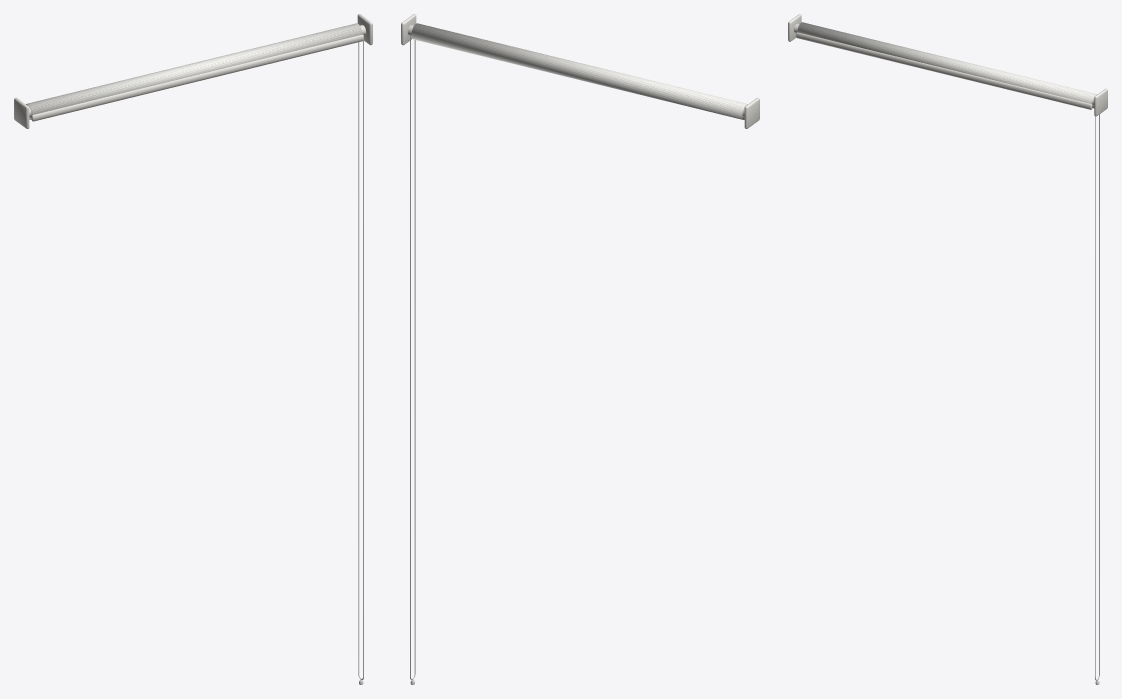
The model's file is estor_enrollable_220_c0.glb.
3 views of the same model, side by side, from view 1: azimuth 30°, elevation 25°; view 2: azimuth 150°, elevation 25°; view 3: azimuth 330°, elevation 25° (orthographic). The views are drawn at different scales.
Visible parts, largest first — view 1: estor_enrollable_220_c0; view 2: estor_enrollable_220_c0; view 3: estor_enrollable_220_c0.
Boxes of the visible parts, bbox=[...] form: estor_enrollable_220_c0: bbox=[14, 14, 372, 684]; estor_enrollable_220_c0: bbox=[401, 14, 759, 684]; estor_enrollable_220_c0: bbox=[788, 14, 1107, 684].
Size of the model in its own units: 1.2 by 2.2 by 0.08.
Materials: 4 (1 with a texture image).
